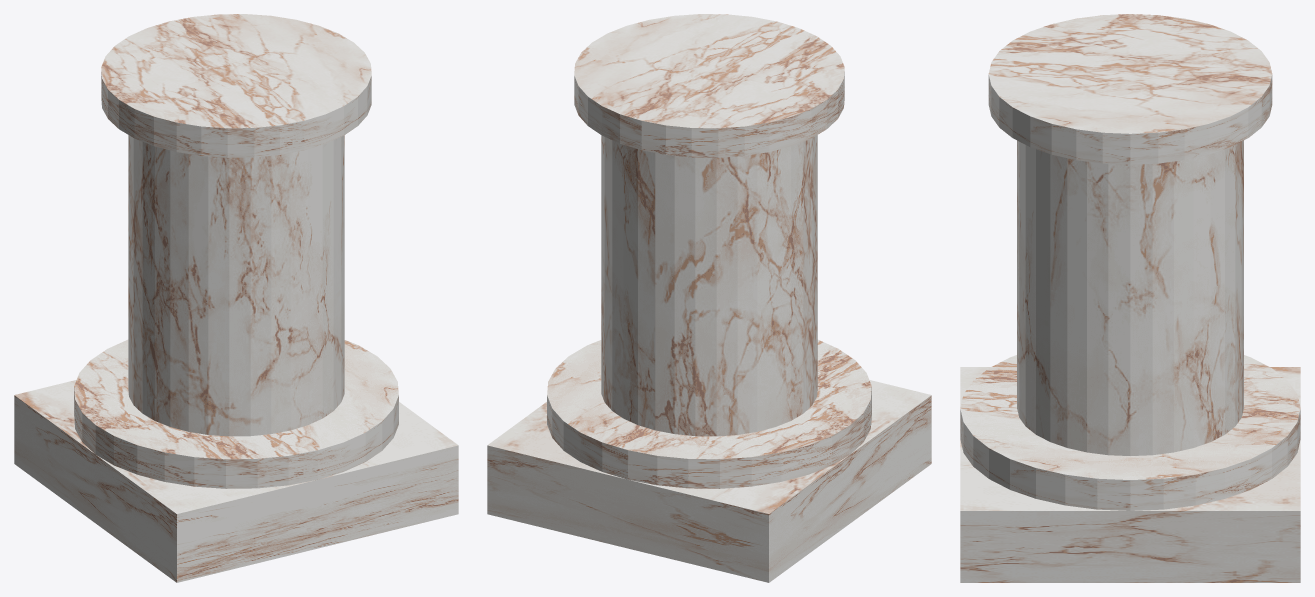
Rendered from crystal_plinth.gltf.
The picture shows the model from 3 angles, left to right: view 1: azimuth 30°, elevation 25°; view 2: azimuth 150°, elevation 25°; view 3: azimuth 270°, elevation 25°; orthographic projection. The views are drawn at different scales.
Visible parts, largest first — view 1: Cylinder.010, Cube.069, Cylinder.009, Cylinder.011; view 2: Cylinder.010, Cube.069, Cylinder.009, Cylinder.011; view 3: Cylinder.010, Cylinder.009, Cube.069, Cylinder.011.
Boxes of the visible parts, box(x1,y1,x2,y2) form: Cylinder.010: box(128, 135, 344, 436); Cube.069: box(14, 380, 458, 582); Cylinder.009: box(101, 14, 371, 157); Cylinder.011: box(74, 339, 398, 488); Cylinder.010: box(601, 135, 817, 436); Cube.069: box(487, 380, 931, 582); Cylinder.009: box(574, 14, 844, 157); Cylinder.011: box(547, 339, 871, 488); Cylinder.010: box(1017, 140, 1243, 455); Cylinder.009: box(988, 14, 1272, 164); Cube.069: box(960, 367, 1300, 582); Cylinder.011: box(960, 355, 1300, 510).
Size of the model in its own units: 6 by 8.5 by 6.
4 materials, 4 textured.
